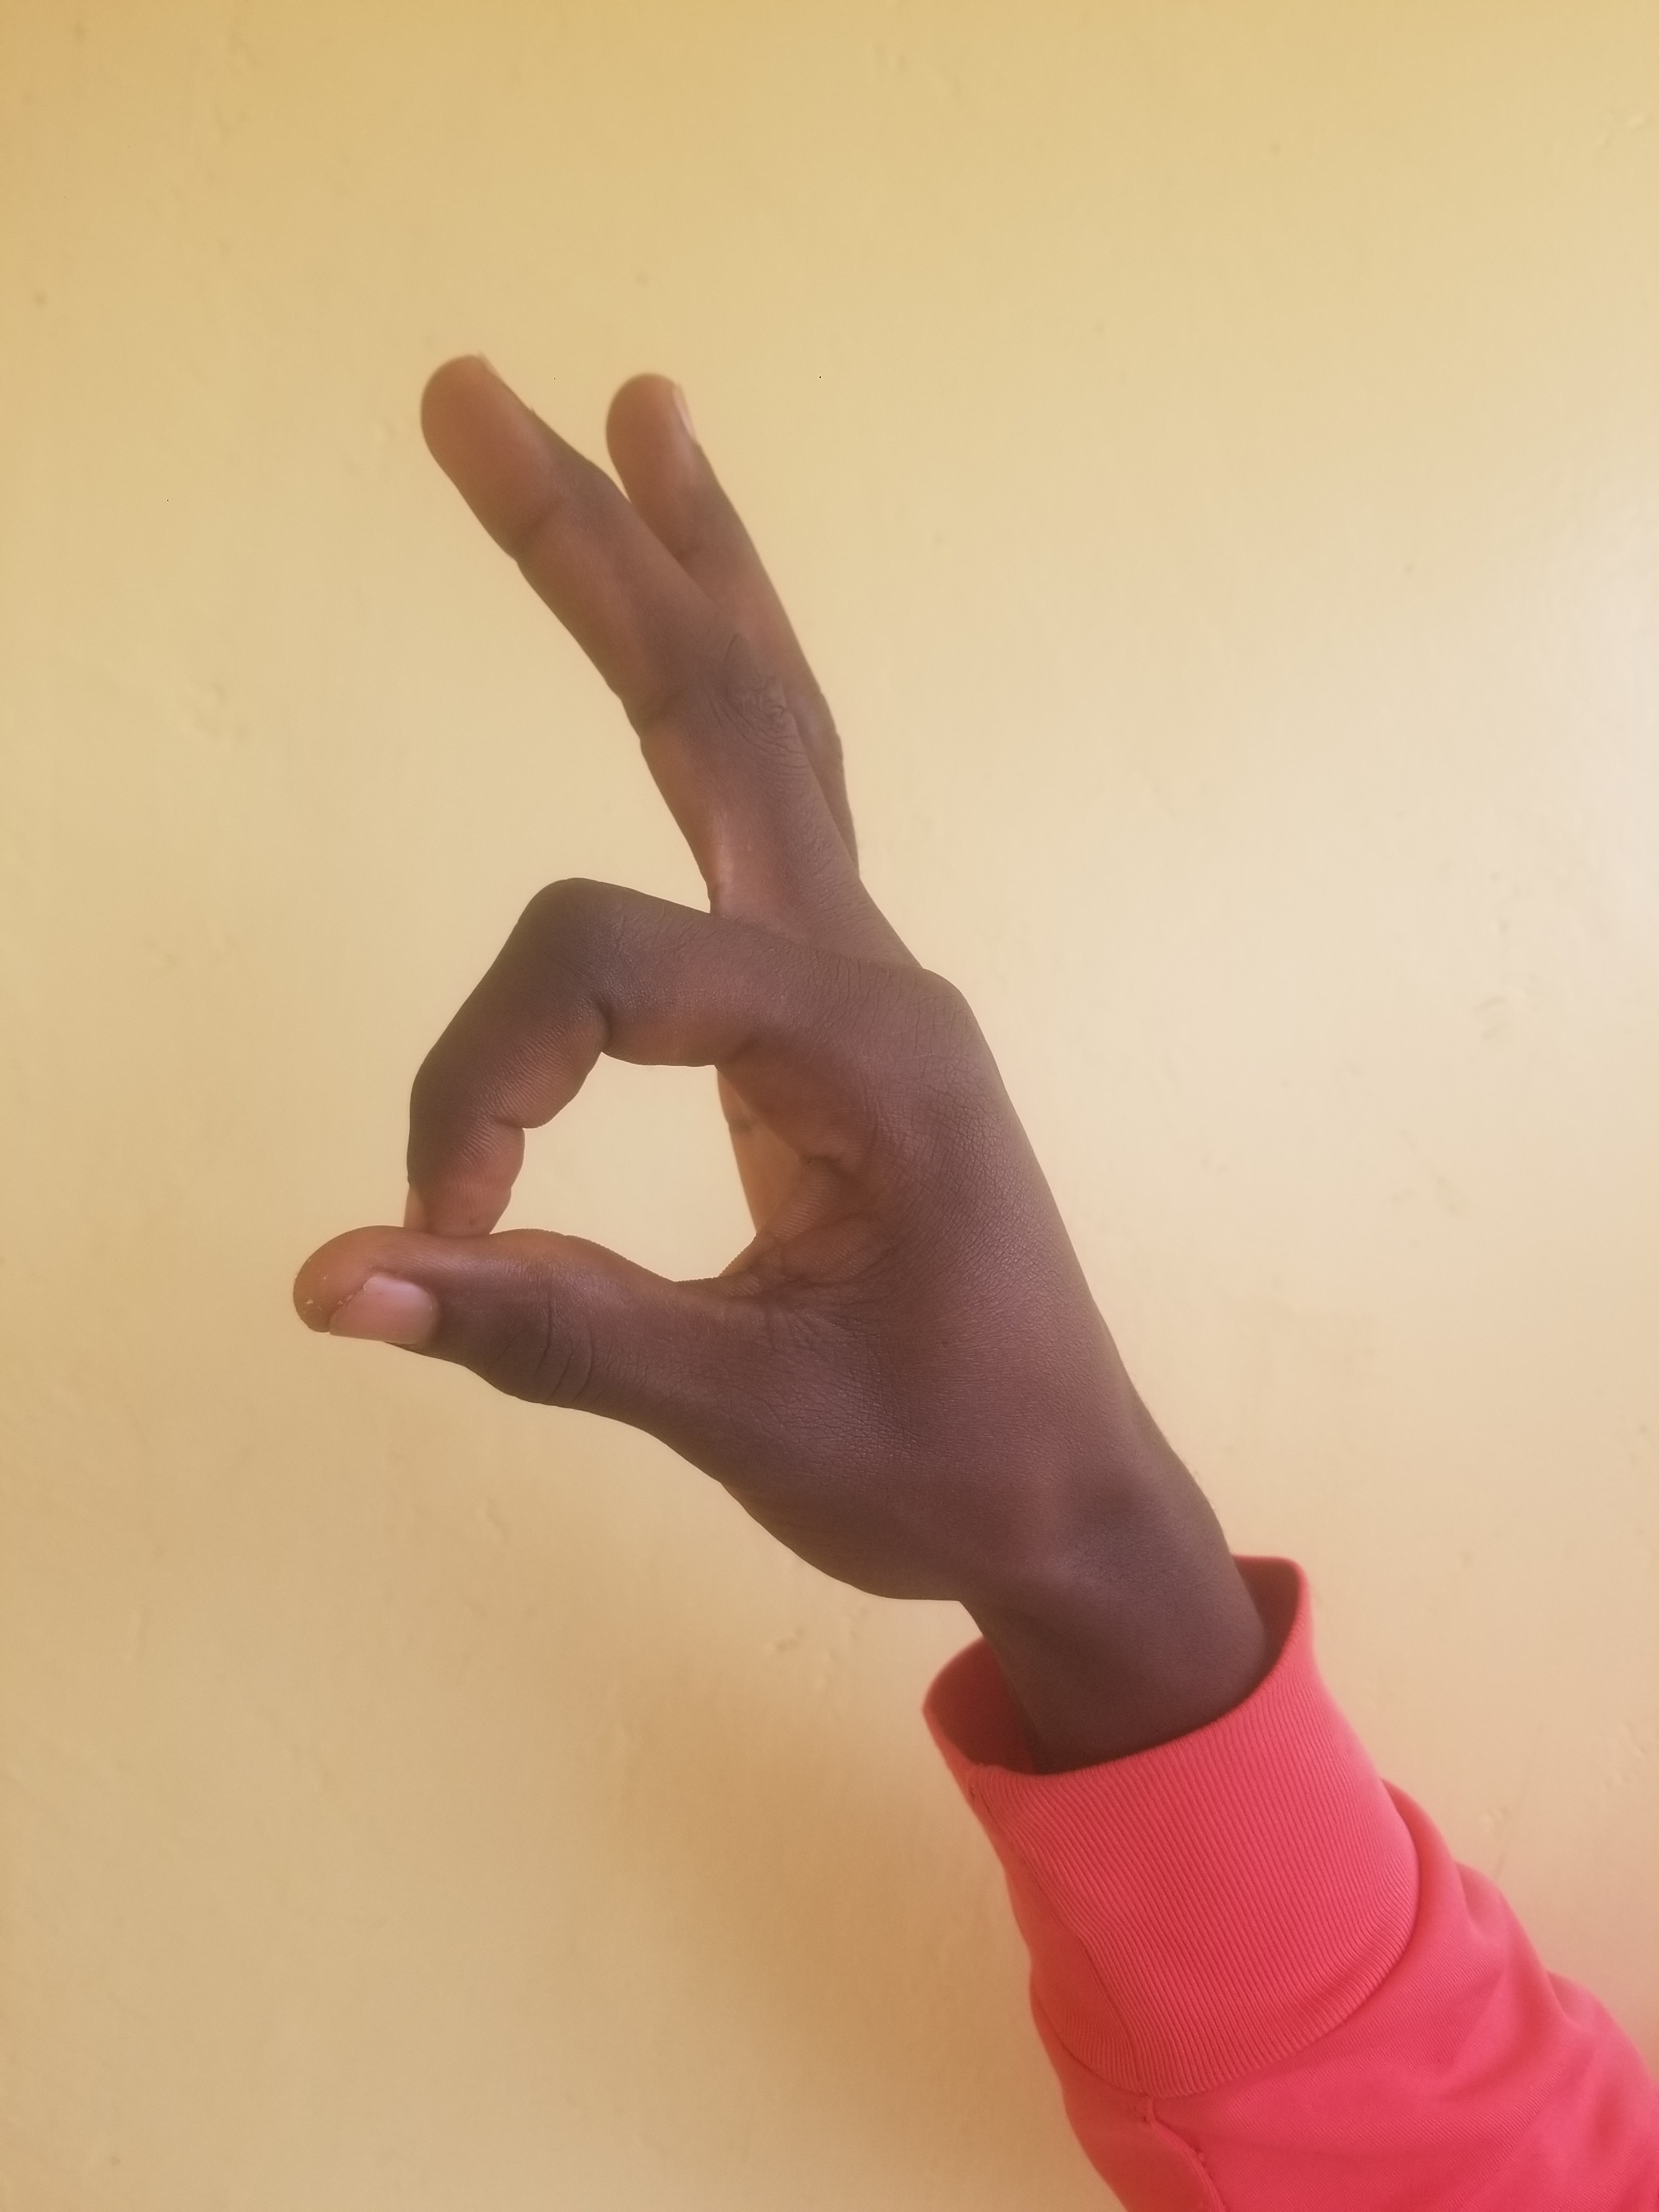ok: (232, 315, 1368, 1782)
